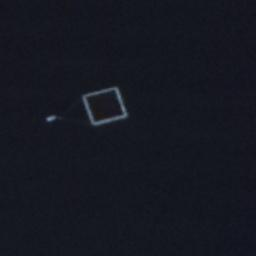square_solid: (78, 83, 132, 130)
